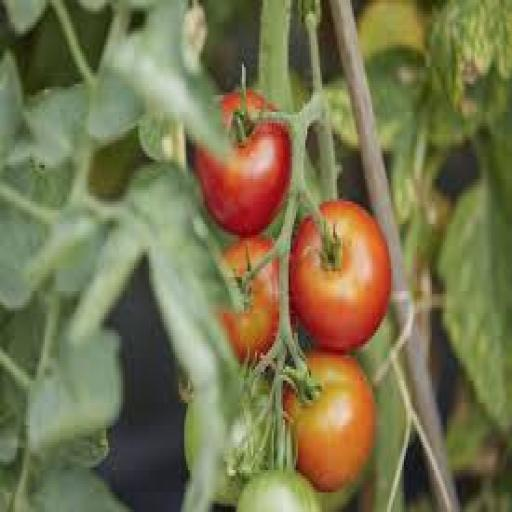tomato: (291, 202, 390, 352), (196, 90, 290, 235), (285, 353, 376, 492), (215, 381, 269, 506), (220, 261, 279, 360), (237, 471, 320, 511), (185, 403, 201, 470)
